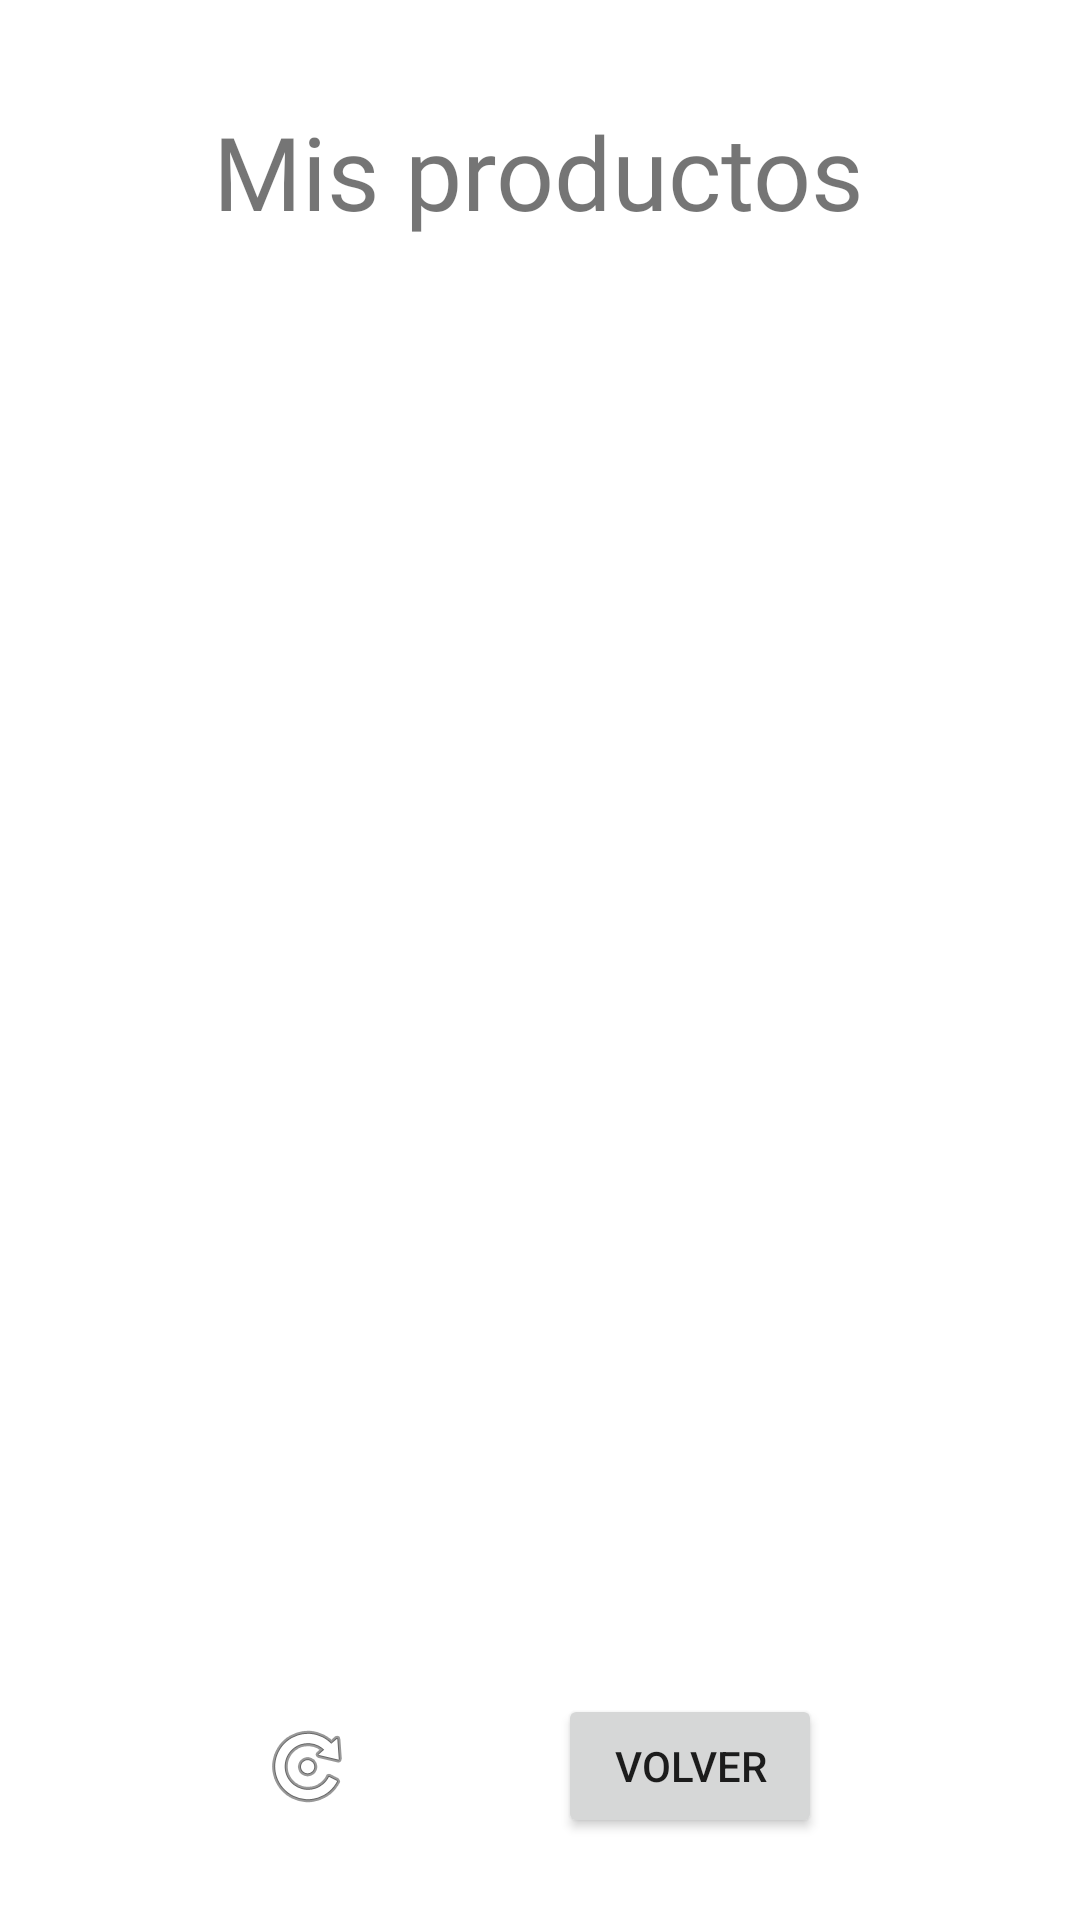

Where icons sit on this 1080 × 1920 app screen, as (x1, y1, x2, y2):
rotate: (272, 1731, 342, 1802)
